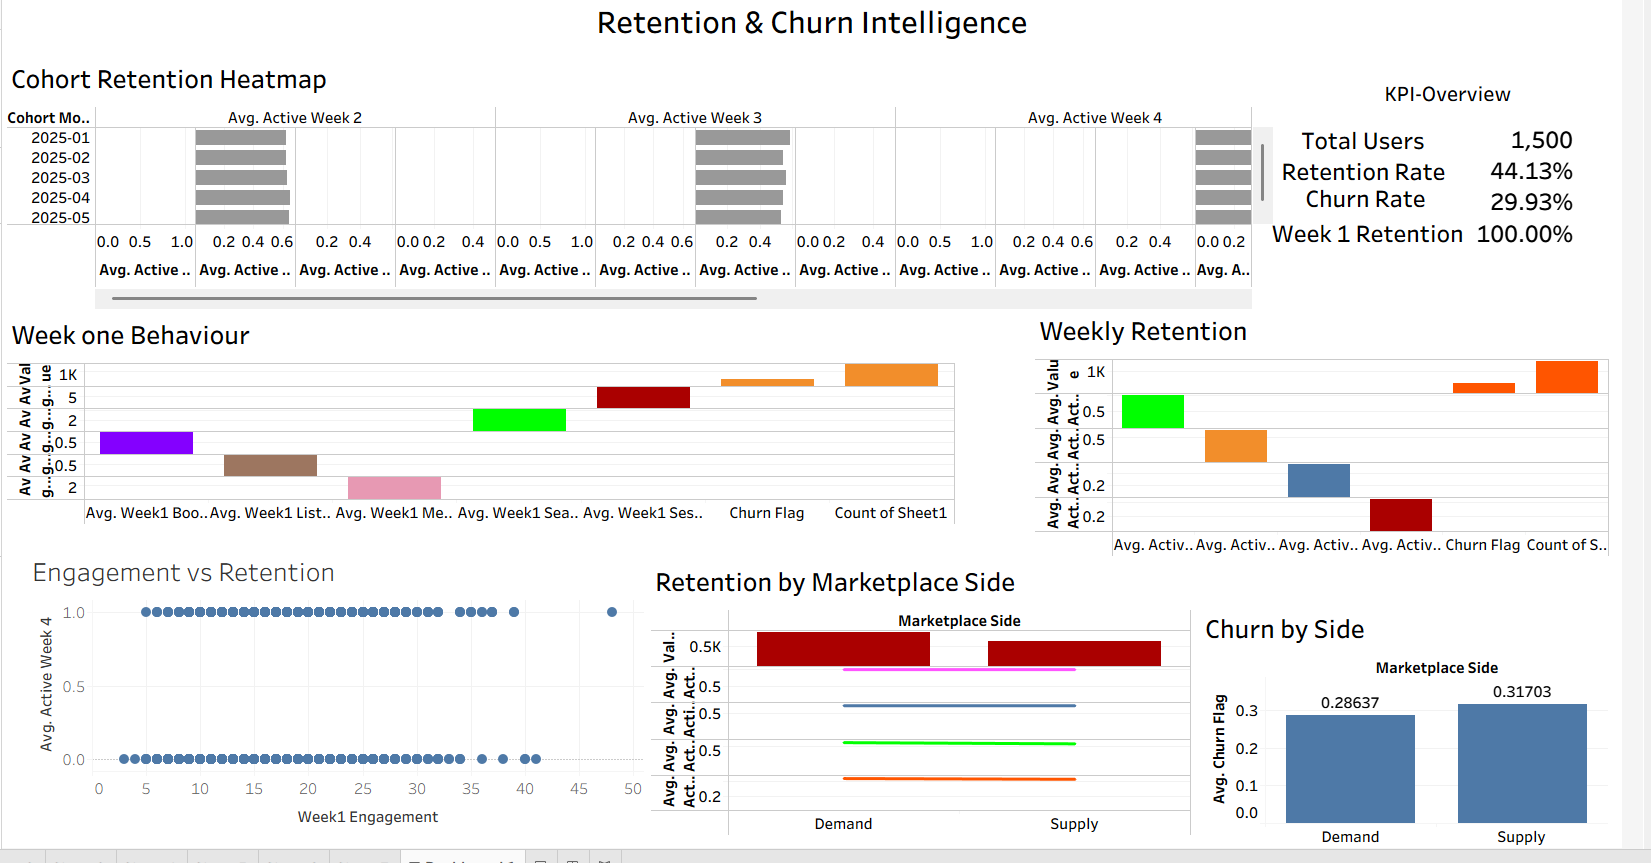

Layout of this report page (visuals, bound fields, positions):
{"tool":"tableau","page":{"name":"Dashboard 1","canvas":[1620,860],"ordinal":0},"visuals":[{"type":"title","box":[8,8,1604,49]},{"type":"worksheet","title":"Sheet 3","mark":"Automatic","rows":["cohort_month"],"cols":["active_week_1","active_week_2","active_week_3","active_week_4"],"box":[5,69,1266,252]},{"type":"text","box":[1379,90,134,30]},{"type":"worksheet","title":"Sheet 1","mark":"Automatic","box":[1455,135,156,167]},{"type":"text","box":[1296,136,131,32]},{"type":"text","box":[1276,167,171,32]},{"type":"text","box":[1300,194,127,32]},{"type":"text","box":[1266,229,199,32]},{"type":"worksheet","title":"Sheet 2","mark":"Automatic","rows":["active_week_1","active_week_2","active_week_3","active_week_4"],"box":[1033,321,574,248]},{"type":"worksheet","title":"Sheet 6","mark":"Automatic","rows":["week1_sessions","week1_searches","week1_bookings","week1_listings","week1_messages"],"box":[5,325,949,212]},{"type":"worksheet","title":"Sheet 7","mark":"Circle","rows":["active_week_4"],"cols":["week1_engagement"],"box":[26,562,616,284]},{"type":"worksheet","title":"Sheet 4","mark":"Automatic","rows":["active_week_1","active_week_2","active_week_3","active_week_4"],"cols":["marketplace_side"],"box":[649,572,540,277]},{"type":"worksheet","title":"Sheet 5","mark":"Automatic","rows":["churn_flag"],"cols":["marketplace_side"],"box":[1199,619,407,241]}]}

Visuals, with their boxes in screenshot pixels (x1, y1, x2, y2), scaled from the page's 1620x860 canvas onto the 1651x863 screenshot:
title: bbox=[8, 8, 1643, 57]
"Sheet 3" worksheet: bbox=[5, 69, 1295, 322]
text: bbox=[1405, 90, 1542, 120]
"Sheet 1" worksheet: bbox=[1483, 135, 1642, 303]
text: bbox=[1321, 136, 1454, 169]
text: bbox=[1300, 168, 1475, 200]
text: bbox=[1325, 195, 1454, 227]
text: bbox=[1290, 230, 1493, 262]
"Sheet 2" worksheet: bbox=[1053, 322, 1638, 571]
"Sheet 6" worksheet: bbox=[5, 326, 972, 539]
"Sheet 7" worksheet (Circle marks): bbox=[26, 564, 654, 849]
"Sheet 4" worksheet: bbox=[661, 574, 1212, 852]
"Sheet 5" worksheet: bbox=[1222, 621, 1637, 862]
